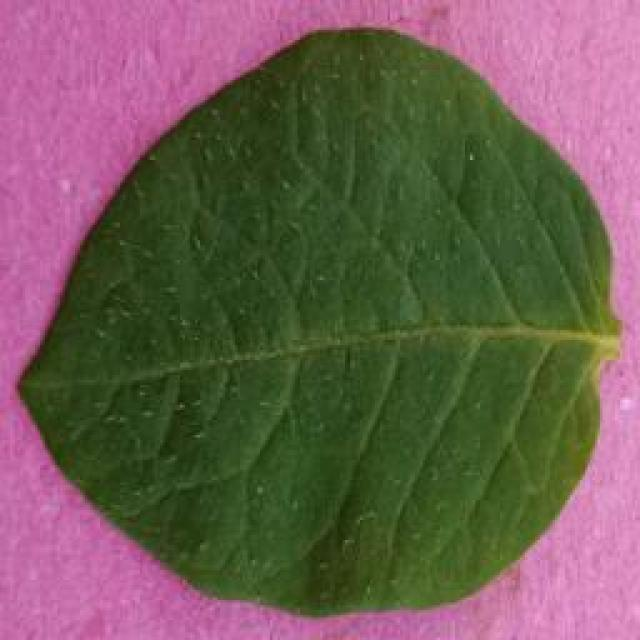Potato_Healthy: (16, 25, 614, 612)
